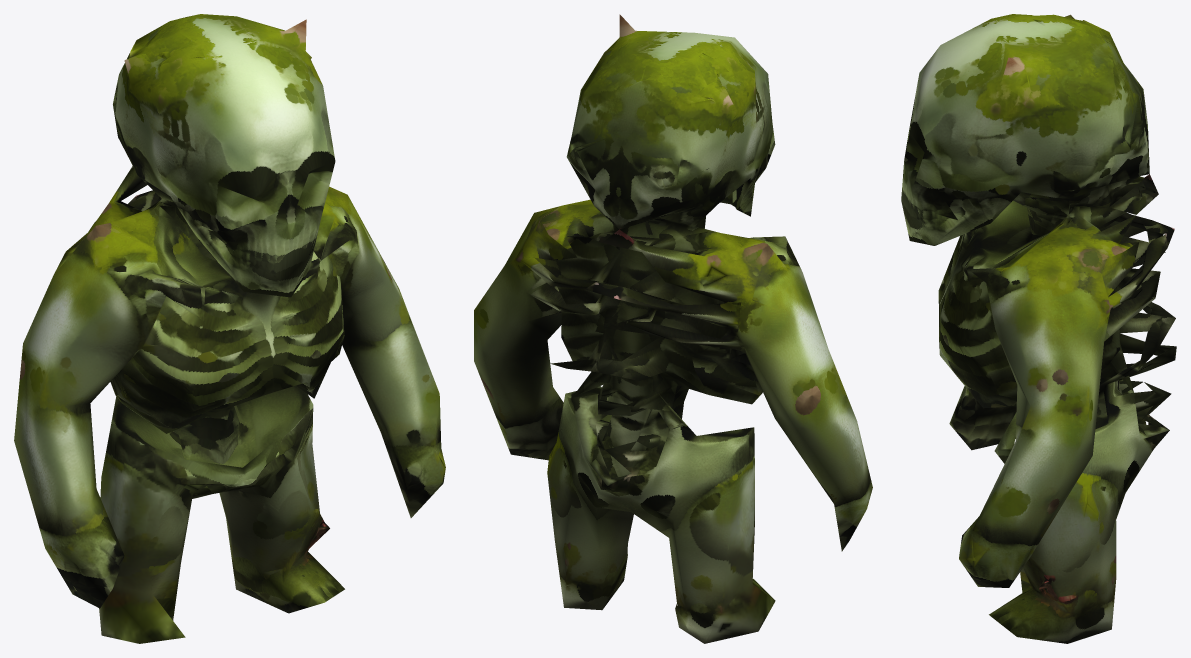
The model's file is bogged_single_1500.glb.
3 views of the same model, side by side, from view 1: azimuth 30°, elevation 25°; view 2: azimuth 150°, elevation 25°; view 3: azimuth 270°, elevation 25° (orthographic). The views are drawn at different scales.
Bounding box in the file's own units: 0.5626 × 0.8227 × 0.3588.
Materials: 1 (1 with a texture image).
